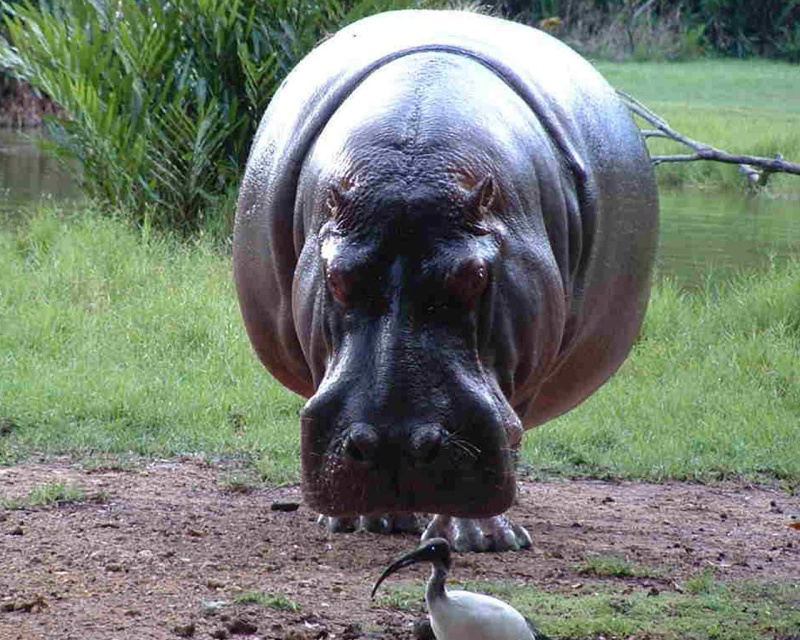hipopotamo: (221, 8, 665, 558)
